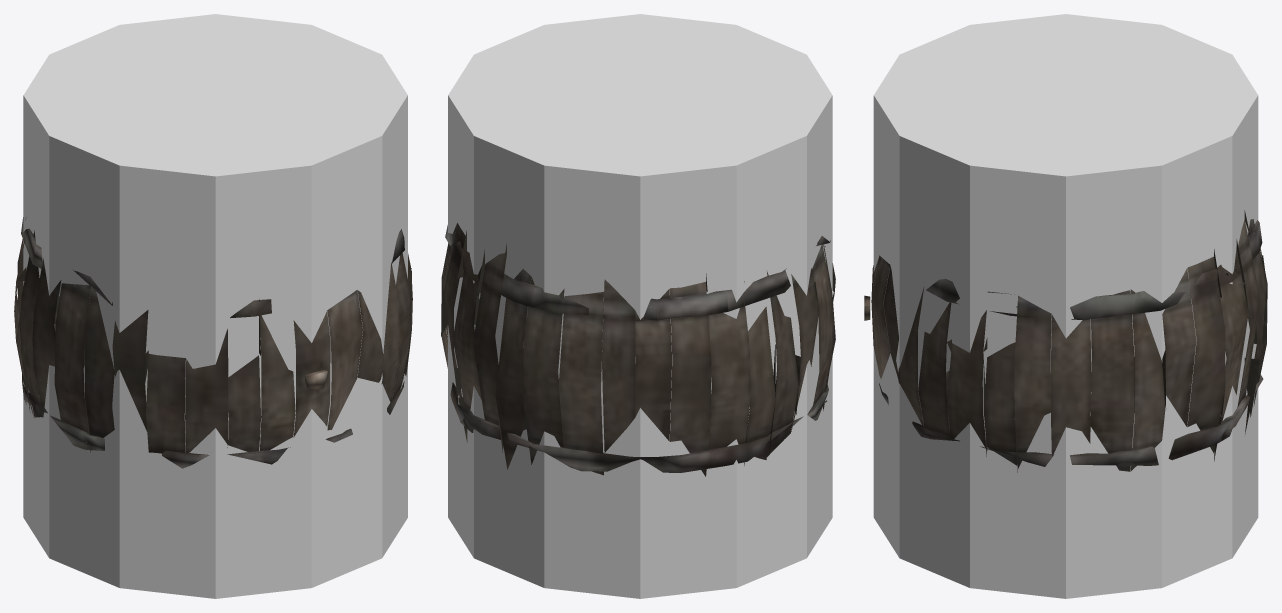
Rendered from wine_barrel_01_sanctuary_lite.glb.
3 views of the same model, side by side, from view 1: azimuth 30°, elevation 25°; view 2: azimuth 150°, elevation 25°; view 3: azimuth 270°, elevation 25° (orthographic).
Visible parts, largest first — view 1: col_wine_barrel_01_sanctuary, wine_barrel_01_sanctuary; view 2: col_wine_barrel_01_sanctuary, wine_barrel_01_sanctuary; view 3: col_wine_barrel_01_sanctuary, wine_barrel_01_sanctuary.
Part boxes in pixels (left/top/right/bottom): col_wine_barrel_01_sanctuary: left=23, top=14, right=407, bottom=598; wine_barrel_01_sanctuary: left=14, top=217, right=412, bottom=468; col_wine_barrel_01_sanctuary: left=448, top=14, right=832, bottom=598; wine_barrel_01_sanctuary: left=441, top=223, right=835, bottom=476; col_wine_barrel_01_sanctuary: left=873, top=14, right=1258, bottom=598; wine_barrel_01_sanctuary: left=864, top=210, right=1267, bottom=472.
Size of the model in its own units: 0.7408 by 0.8713 by 0.7539.
Materials: 1 (1 with a texture image).
